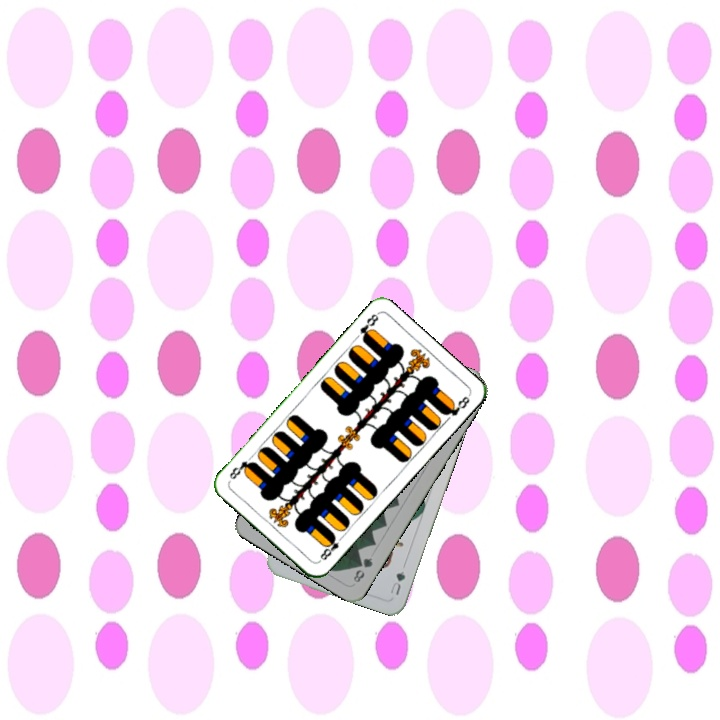E8: (315, 531, 346, 564), (356, 309, 381, 344)
G8: (349, 553, 375, 585)
GU: (386, 560, 408, 598)
